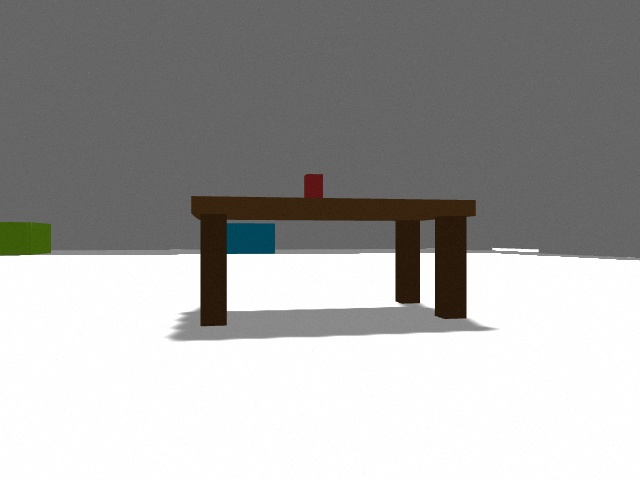blue_drop_zone: (227, 223, 275, 254)
green_drop_zone: (0, 222, 51, 255)
